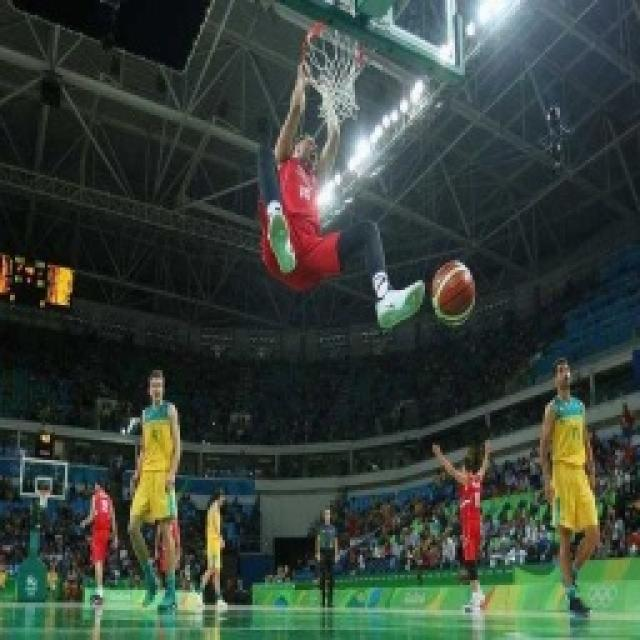rim: (428, 256, 478, 332)
